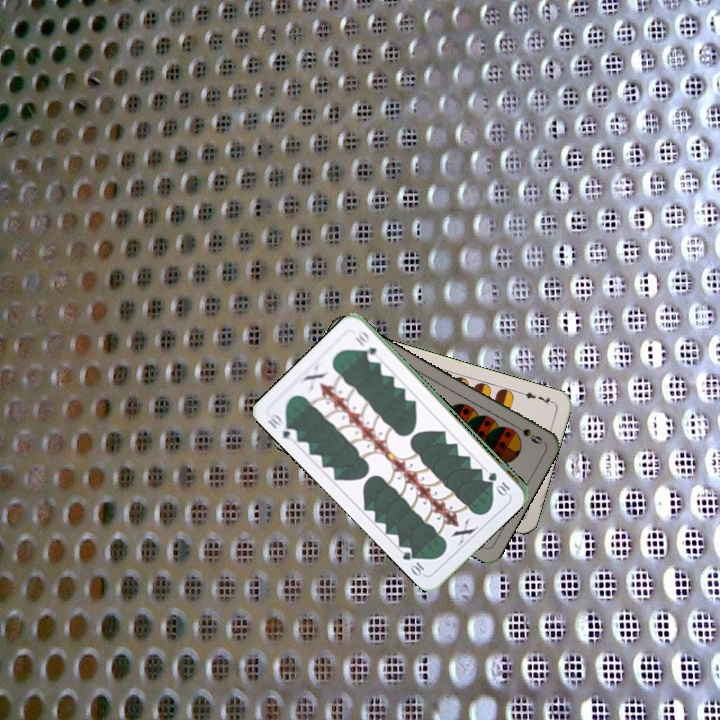E7: (517, 387, 557, 408)
G10: (264, 409, 300, 444), (485, 468, 513, 497)
S9: (508, 420, 545, 447)
